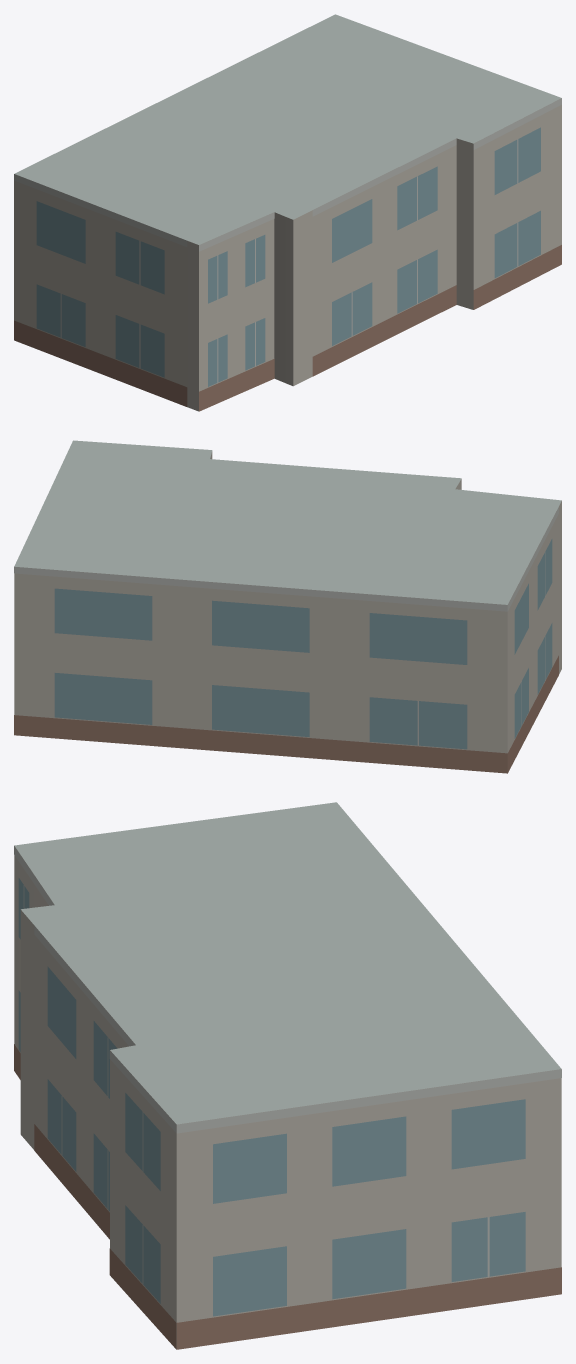
Rendered from survey-upis-32786064.glb.
The picture shows the model from 3 angles, top to bottom: view 1: azimuth 30°, elevation 25°; view 2: azimuth 150°, elevation 25°; view 3: azimuth 270°, elevation 25°; orthographic projection. The views are drawn at different scales.
Parts seen in each view (by area): view 1: survey-upis-32786064.tmp; view 2: survey-upis-32786064.tmp; view 3: survey-upis-32786064.tmp.
Part boxes in pixels (x1,y1,x2,y2): survey-upis-32786064.tmp: [14, 14, 561, 411]; survey-upis-32786064.tmp: [14, 440, 561, 773]; survey-upis-32786064.tmp: [14, 802, 561, 1349].
Size of the model in its own units: 18.74 by 6.1 by 13.46.
